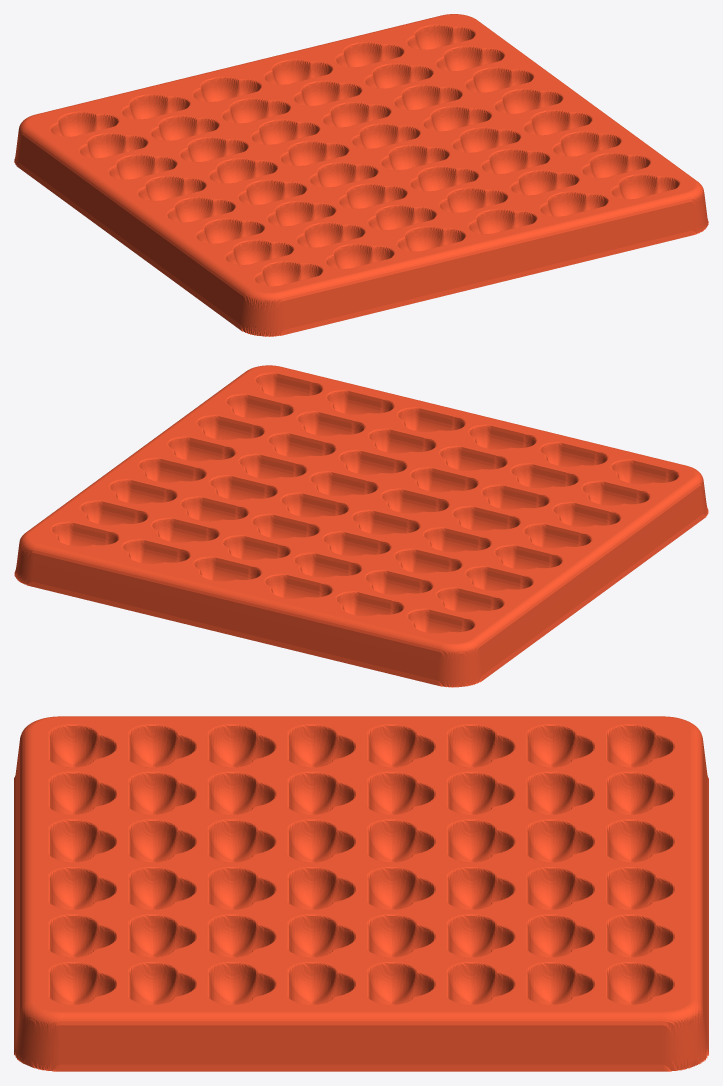
Rendered from mold.glb.
The picture shows the model from 3 angles, top to bottom: view 1: azimuth 30°, elevation 25°; view 2: azimuth 150°, elevation 25°; view 3: azimuth 270°, elevation 25°; orthographic projection. The views are drawn at different scales.
Parts seen in each view (by area): view 1: geometry_0; view 2: geometry_0; view 3: geometry_0.
Boxes of the visible parts, x1,y1,x2,y2 form: geometry_0: [14, 14, 708, 336]; geometry_0: [14, 365, 708, 687]; geometry_0: [14, 716, 708, 1071].
Size of the model in its own units: 0.1443 by 0.0114 by 0.1369.
